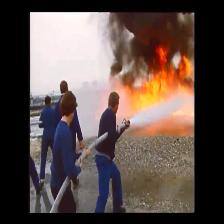fire: (133, 75, 167, 99)
smoke: (124, 10, 194, 44)
